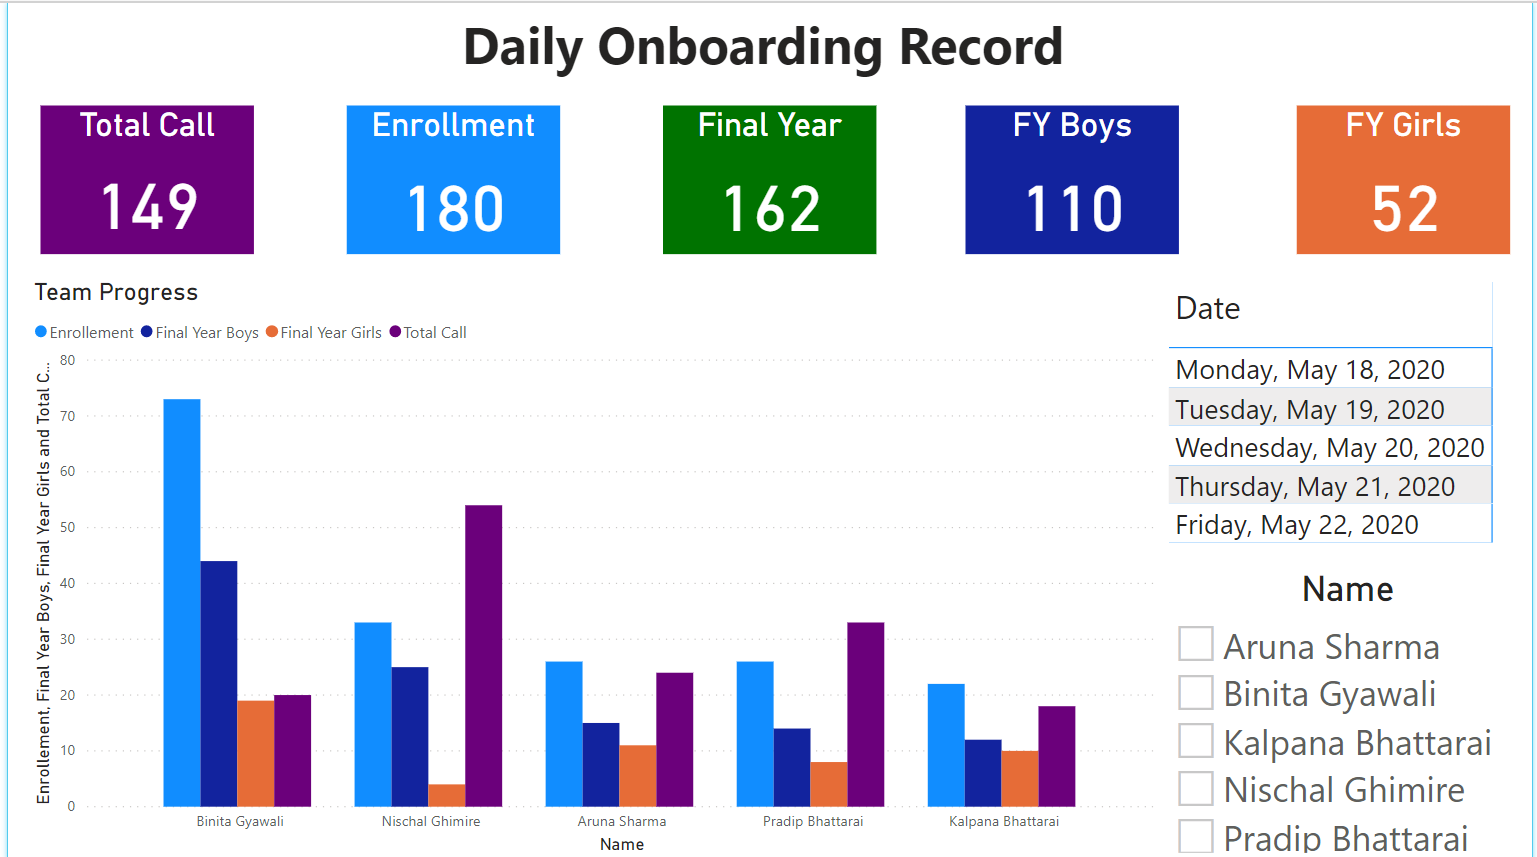

The page's visual inventory and layout, read from the dashboard file:
{"tool":"powerbi","page":{"name":"Day Sheet","canvas":[1280,720],"ordinal":3},"visuals":[{"type":"clusteredColumnChart","title":"Team Progress","fields":{"Category":["daysheet (2).Name"],"Y":["Sum(daysheet (2).Enrollement)","Sum(daysheet (2).Final Year Boys)","Sum(daysheet (2).Total Call)","Sum(daysheet (2).Final Year Girls)"]},"box":[16.4,229.7,953.2,489.6],"z":0},{"type":"card","title":"Total Call","fields":{"Values":["Sum(daysheet (2).Total Call)"]},"box":[27.4,86.2,179.1,124.4],"z":1000},{"type":"card","title":"Enrollment","fields":{"Values":["Sum(daysheet (2).Enrollement)"]},"box":[284.4,86.2,179.1,124.4],"z":2000},{"type":"card","title":"FY Boys","fields":{"Values":["Sum(daysheet (2).Final Year Boys)"]},"box":[804.1,86.2,179.1,124.4],"z":3000},{"type":"card","title":"FY Girls","fields":{"Values":["Sum(daysheet (2).Final Year Girls)"]},"box":[1081.7,86.2,179.1,124.4],"z":4000},{"type":"card","title":"Final Year","fields":{"Values":["daysheet.Final Year Boys plus Final Year Girls"]},"box":[549.7,86.2,179.1,124.4],"z":5000},{"type":"slicer","title":"Name","fields":{"Values":["daysheet (2).Name"]},"box":[970.1,474.8,310.5,244],"z":6000},{"type":"pivotTable","title":"Date","fields":{"Rows":["daysheet (2).Date"]},"box":[970.1,229.5,291.1,245.2],"z":7000},{"type":"textbox","box":[0,0,1280,67],"z":8000},{"type":"actionButton","box":[0,0,100,40],"z":9000}]}

Visuals, with their boxes in screenshot pixels (x1, y1, x2, y2), scaled from the page's 1280x720 canvas onto the 1537x857 screenshot:
"Team Progress" clusteredColumnChart: pyautogui.locateOnScreen(20, 273, 1164, 856)
"Total Call" card: pyautogui.locateOnScreen(33, 103, 248, 251)
"Enrollment" card: pyautogui.locateOnScreen(342, 103, 557, 251)
"FY Boys" card: pyautogui.locateOnScreen(966, 103, 1181, 251)
"FY Girls" card: pyautogui.locateOnScreen(1299, 103, 1514, 251)
"Final Year" card: pyautogui.locateOnScreen(660, 103, 875, 251)
"Name" slicer: pyautogui.locateOnScreen(1165, 565, 1536, 856)
"Date" pivotTable: pyautogui.locateOnScreen(1165, 273, 1514, 565)
textbox: pyautogui.locateOnScreen(0, 0, 1536, 80)
actionButton: pyautogui.locateOnScreen(0, 0, 120, 48)
